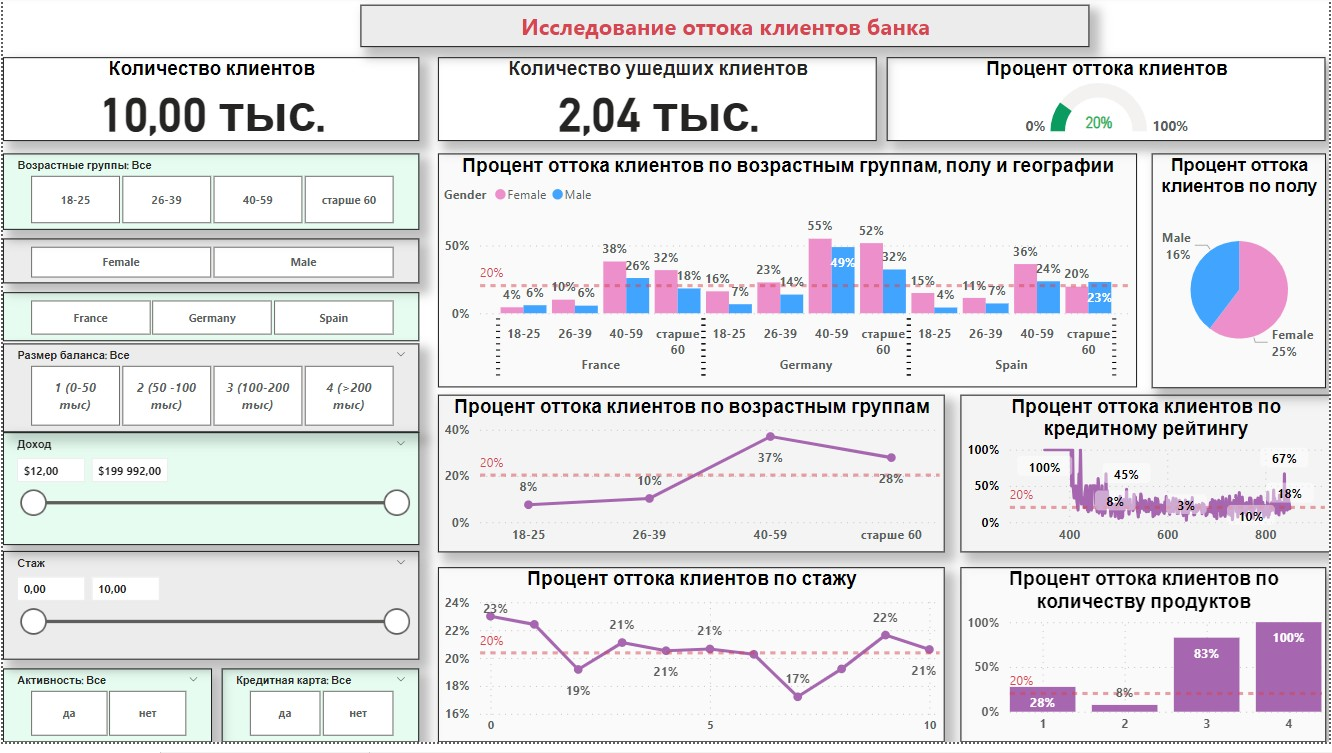

Layout of this report page (visuals, bound fields, positions):
{"tool":"powerbi","page":{"name":"Исследование оттока клиентов банка","canvas":[1280,720],"ordinal":0},"visuals":[{"type":"card","title":"Количество клиентов","fields":{"Values":["churn.Количество клиентов"]},"box":[0,59.1,401.6,80.8],"z":0},{"type":"card","title":"Количество ушедших клиентов","fields":{"Values":["Таблица мер.Количество ушедших клиентов"]},"box":[419.7,59.1,423.3,80.8],"z":1000},{"type":"gauge","fields":{"Y":["Таблица мер.Процент оттока клиентов"]},"box":[852.7,59.1,423.3,80.8],"z":2000},{"type":"slicer","fields":{"Values":["churn.Gender"]},"box":[0,234,401.6,43.4],"z":3000},{"type":"slicer","fields":{"Values":["churn.HasCrCard"]},"box":[211.1,648.8,190.6,71.2],"z":4000},{"type":"slicer","fields":{"Values":["churn.IsActiveMember"]},"box":[0,648.8,201.4,71.2],"z":5000},{"type":"slicer","fields":{"Values":["churn.Geography"]},"box":[0,285.8,401.6,47],"z":6000},{"type":"clusteredColumnChart","title":"Процент оттока клиентов по возрастным группам, полу и географии","fields":{"Category":["churn.Geography","churn.Возрастные группы"],"Series":["churn.Gender"],"Y":["Таблица мер.Процент оттока клиентов"]},"box":[419.7,152,674.2,225.5],"z":7000},{"type":"slicer","fields":{"Values":["churn.Возрастные группы"]},"box":[0,152,401.6,73.6],"z":8000},{"type":"slicer","fields":{"Values":["churn.Tenure"]},"box":[0,535.5,401.6,104.9],"z":9000},{"type":"lineChart","title":"Процент оттока клиентов по возрастным группам","fields":{"Y":["Таблица мер.Процент оттока клиентов"],"Category":["churn.Возрастные группы"]},"box":[419.9,384.2,488.5,152.3],"z":10000},{"type":"lineChart","title":"Процент оттока клиентов по кредитному рейтингу","fields":{"Y":["Таблица мер.Процент оттока клиентов"],"Category":["churn.CreditScore"]},"box":[923.5,384.2,356.8,152.3],"z":11000},{"type":"lineChart","title":"Процент оттока клиентов по стажу","fields":{"Y":["Таблица мер.Процент оттока клиентов"],"Category":["churn.Tenure"]},"box":[419.9,551.6,488.5,168.8],"z":12000},{"type":"columnChart","title":"Процент оттока клиентов по количеству продуктов","fields":{"Category":["churn.NumOfProducts"],"Y":["Таблица мер.Процент оттока клиентов"]},"box":[923.5,551.6,352.7,168.8],"z":13000},{"type":"slicer","fields":{"Values":["churn.Категории по размеру баланса"]},"box":[0,335.3,401.6,85.6],"z":15000},{"type":"slicer","fields":{"Values":["churn.EstimatedSalary"]},"box":[0,420.9,401.6,108.5],"z":16000},{"type":"pieChart","title":"Процент оттока клиентов по полу","fields":{"Y":["Таблица мер.Процент оттока клиентов"],"Category":["churn.Gender"]},"box":[1108.3,152,167.6,226.7],"z":17000},{"type":"textbox","box":[344.9,8.4,703.1,41],"z":18000}]}

Visuals, with their boxes in screenshot pixels (x1, y1, x2, y2), scaled from the page's 1280x720 canvas onto the 1332x753 screenshot:
"Количество клиентов" card: Rect(0, 62, 418, 146)
"Количество ушедших клиентов" card: Rect(437, 62, 877, 146)
gauge - Таблица мер.Процент оттока клиентов: Rect(887, 62, 1328, 146)
slicer - churn.Gender: Rect(0, 245, 418, 290)
slicer - churn.HasCrCard: Rect(220, 679, 418, 752)
slicer - churn.IsActiveMember: Rect(0, 679, 210, 752)
slicer - churn.Geography: Rect(0, 299, 418, 348)
"Процент оттока клиентов по возрастным группам, полу и географии" clusteredColumnChart: Rect(437, 159, 1138, 395)
slicer - churn.Возрастные группы: Rect(0, 159, 418, 236)
slicer - churn.Tenure: Rect(0, 560, 418, 670)
"Процент оттока клиентов по возрастным группам" lineChart: Rect(437, 402, 945, 561)
"Процент оттока клиентов по кредитному рейтингу" lineChart: Rect(961, 402, 1331, 561)
"Процент оттока клиентов по стажу" lineChart: Rect(437, 577, 945, 752)
"Процент оттока клиентов по количеству продуктов" columnChart: Rect(961, 577, 1328, 752)
slicer - churn.Категории по размеру баланса: Rect(0, 351, 418, 440)
slicer - churn.EstimatedSalary: Rect(0, 440, 418, 554)
"Процент оттока клиентов по полу" pieChart: Rect(1153, 159, 1328, 396)
textbox: Rect(359, 9, 1091, 52)
